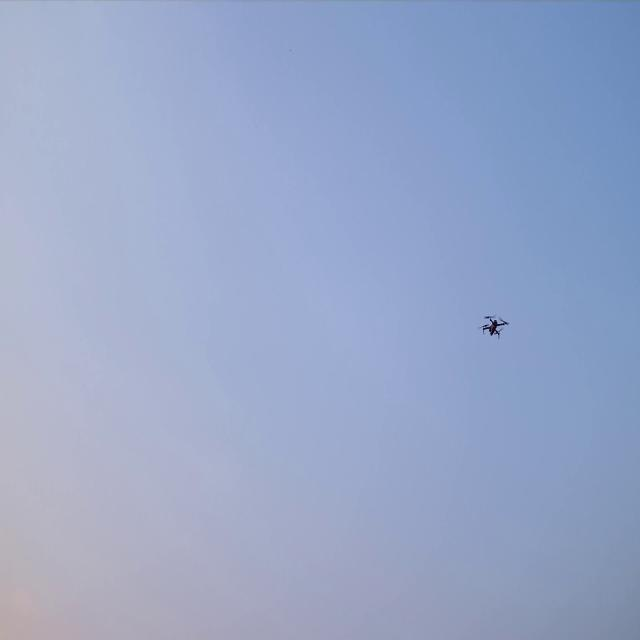UAV: (476, 312, 509, 340)
